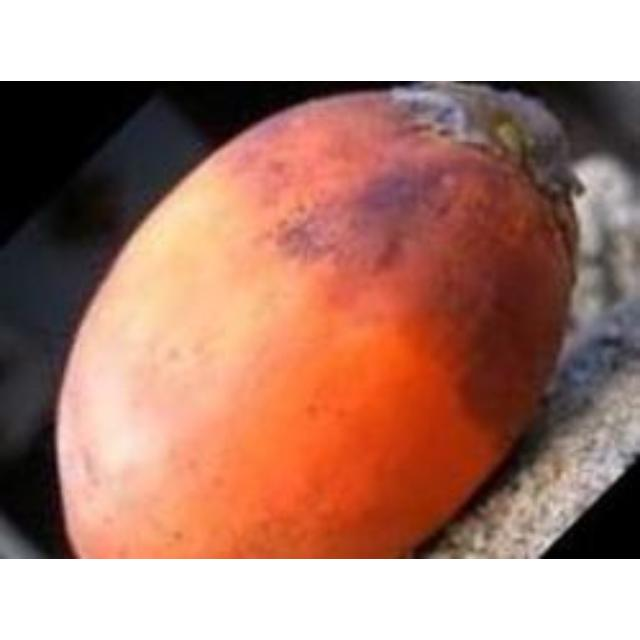good: (51, 81, 637, 557)
